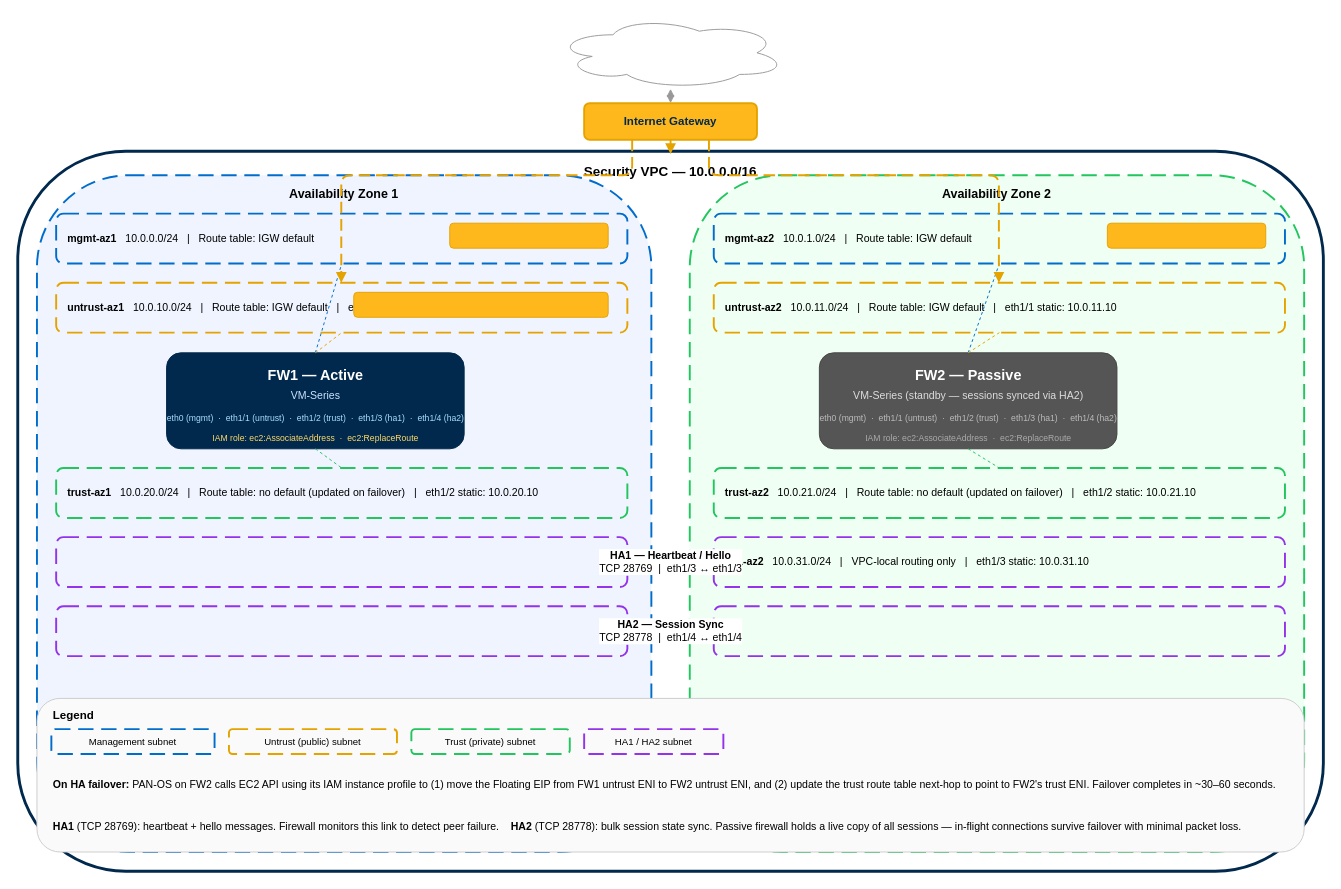
Image size: 1341x889. Some labels were removed from this diagram. Each missing label, with the centre of its shape:
ha1-az1 10.0.30.0/24 | VPC-local routing only | eth1/3 static: 10.0.30.10: [341,562]
ha2-az1 10.0.40.0/24 | VPC-local routing only | eth1/4 static: 10.0.40.10: [341,631]
ha2-az2 10.0.41.0/24 | VPC-local routing only | eth1/4 static: 10.0.41.10: [998,631]
Internet: [670,52]
► EIP: Mgmt FW1: [528,235]
► EIP: Mgmt FW2: [1186,235]
★ Floating EIP (moves on failover): [480,304]
